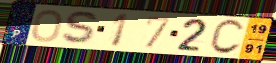1: (109, 12, 130, 49)
2: (173, 17, 209, 53)
7: (144, 15, 172, 50)
C: (207, 18, 246, 56)
O: (30, 9, 65, 44)
S: (60, 10, 102, 47)
